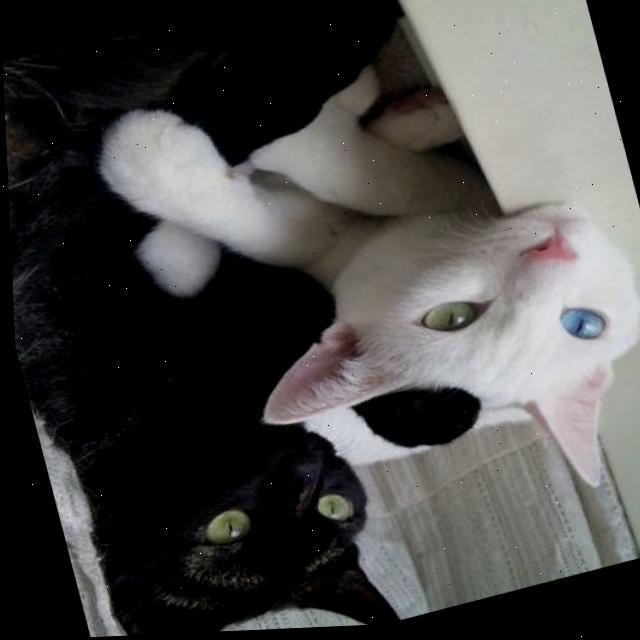Bombay: (0, 0, 402, 640)
Khao Manee: (212, 162, 640, 571)
